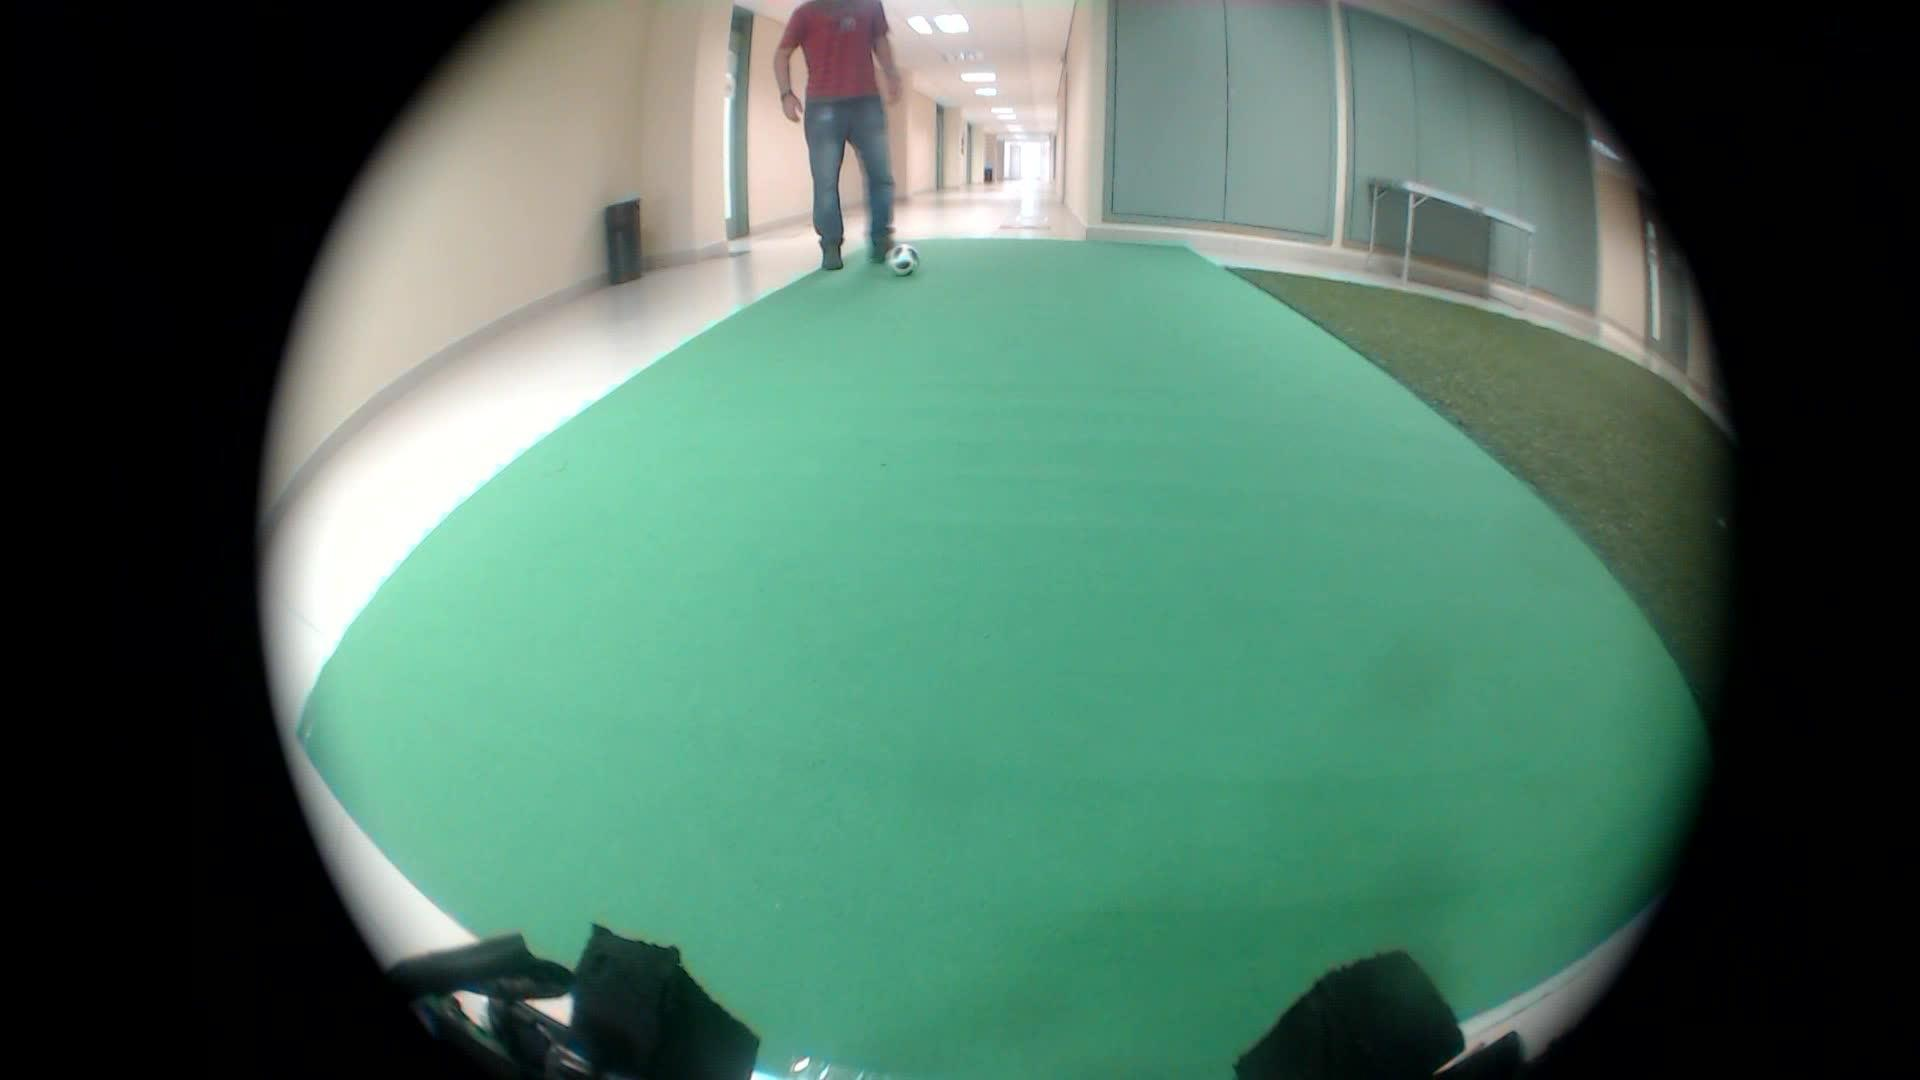ball: (885, 240, 926, 284)
